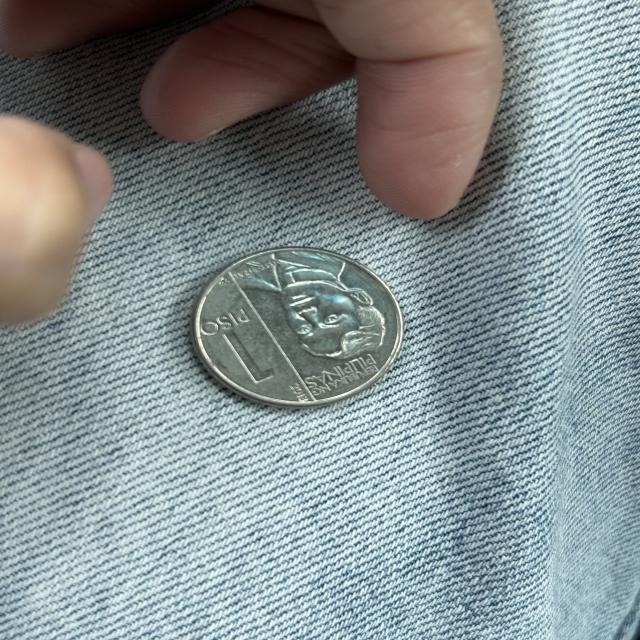1_New_Front: (198, 306, 280, 385)
